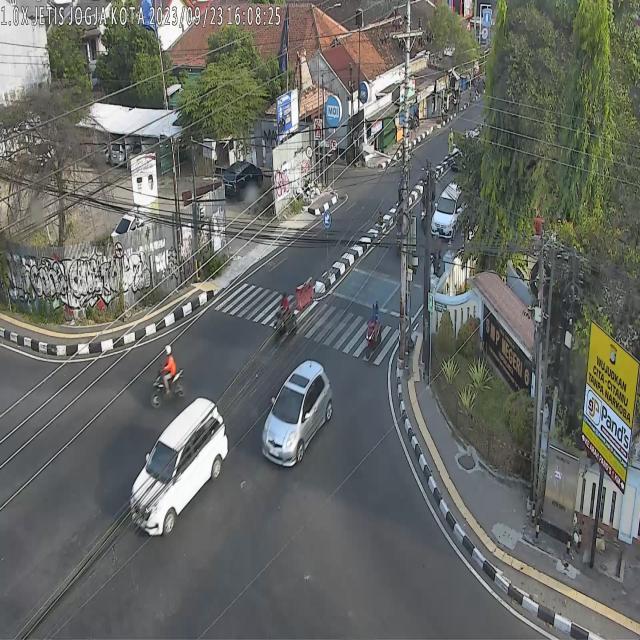car: (130, 397, 228, 537), (262, 360, 332, 468), (431, 181, 468, 239)
motorcycle: (151, 343, 185, 408), (272, 288, 298, 344), (364, 301, 383, 359)
